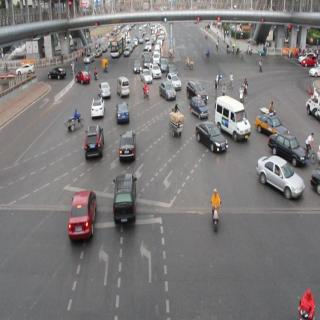BigCar: (109, 36, 127, 64), (307, 63, 320, 83)
Car: (254, 148, 304, 210), (108, 169, 146, 242), (63, 180, 96, 252), (214, 92, 252, 145), (270, 126, 314, 169), (251, 103, 289, 147), (194, 116, 228, 162), (80, 114, 105, 162), (87, 92, 110, 130), (119, 118, 138, 160), (184, 76, 207, 108), (112, 74, 132, 103), (42, 62, 66, 86), (190, 92, 208, 121), (14, 60, 40, 80), (113, 97, 130, 125), (97, 76, 113, 105), (159, 76, 176, 102), (296, 47, 318, 67), (165, 68, 181, 92), (310, 160, 320, 196), (74, 68, 91, 88), (140, 64, 153, 90), (149, 61, 163, 80), (132, 60, 142, 74), (142, 51, 152, 64), (152, 49, 160, 65), (84, 50, 96, 60)
